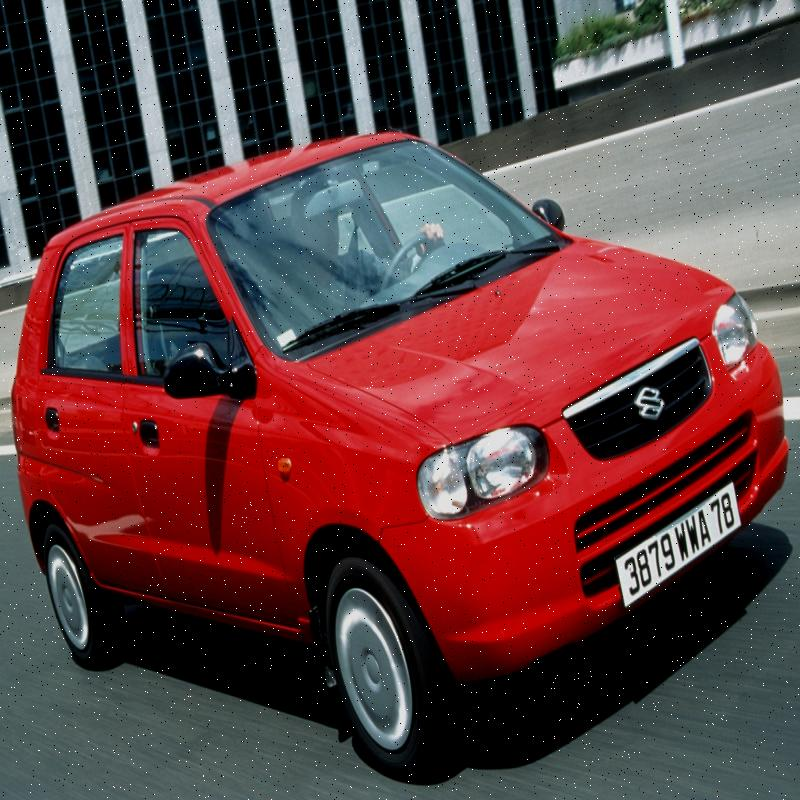car: (0, 178, 765, 694)
